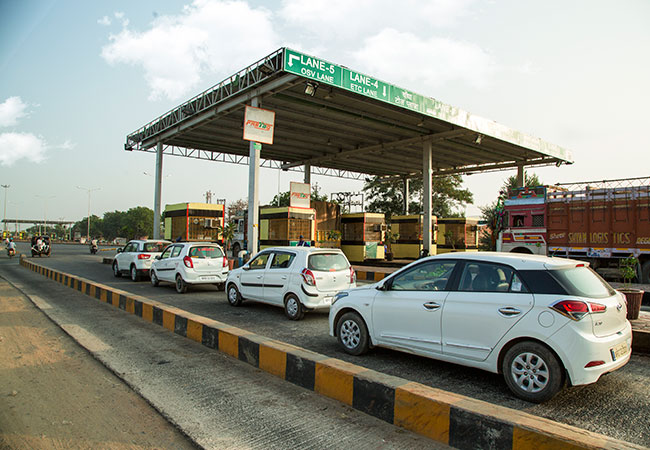toll plaza: (187, 31, 496, 242)
